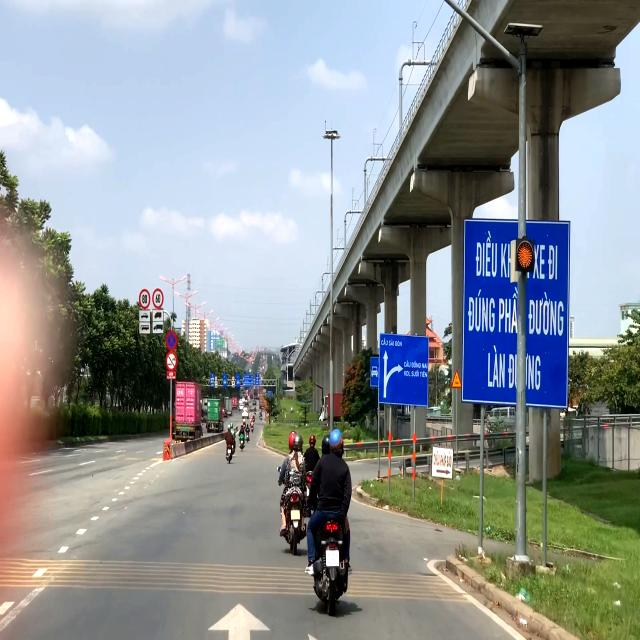P.127: (139, 287, 151, 309), (152, 287, 164, 308)
P.130: (165, 329, 178, 351)
